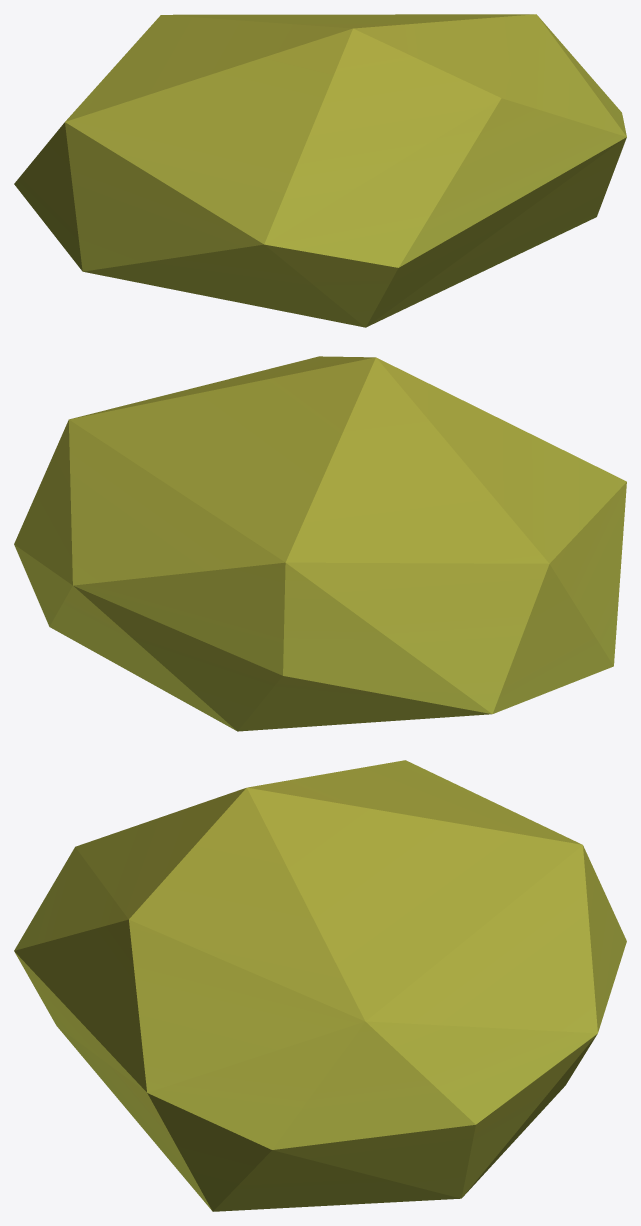
File: Rock_01.fbx
3 views of the same model, one above another, from view 1: azimuth 30°, elevation 25°; view 2: azimuth 150°, elevation 25°; view 3: azimuth 270°, elevation 25° (orthographic). The views are drawn at different scales.
Visible parts, largest first — view 1: Rock_01; view 2: Rock_01; view 3: Rock_01.
Boxes of the visible parts, bbox=[...] form: Rock_01: bbox=[14, 14, 626, 327]; Rock_01: bbox=[14, 356, 626, 731]; Rock_01: bbox=[14, 760, 626, 1211].
Bounding box in the file's own units: 1.18 × 0.5273 × 0.9758.
